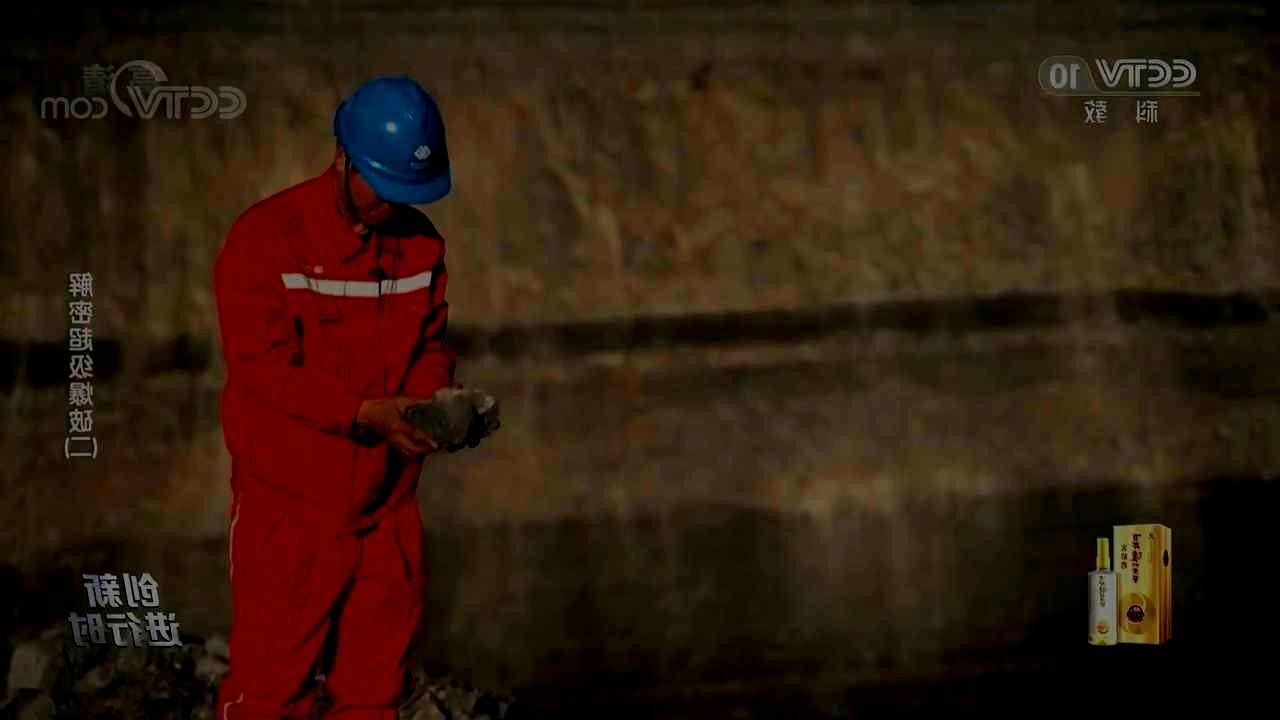helmet: (333, 73, 453, 226)
